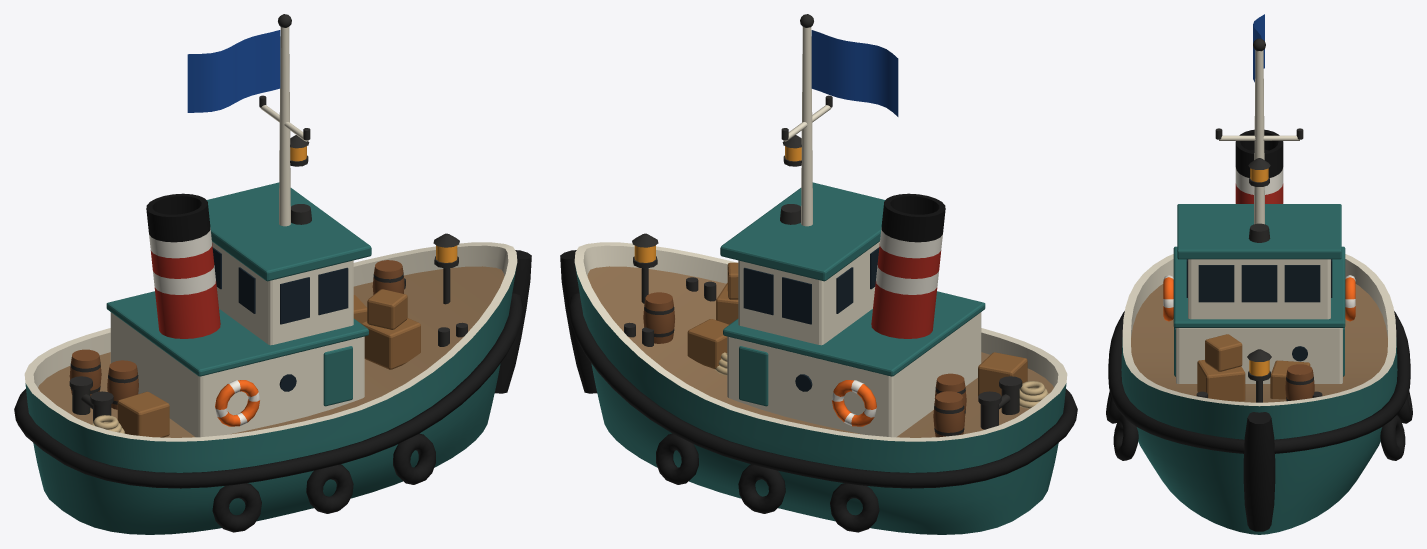
File: semi-realista.glb
3 renders of one model, left to right at view 1: azimuth 30°, elevation 25°; view 2: azimuth 150°, elevation 25°; view 3: azimuth 270°, elevation 25°, orthographic. The views are drawn at different scales.
Visible parts, largest first — view 1: hull, house, house_trim, fenders, funnel, flag, windows, mast, crate_0, crate_3, bitts, lanterns (+6 smaller); view 2: hull, house, house_trim, fenders, funnel, flag, windows, mast, bitts, crate_1, lanterns, crate_3 (+7 smaller); view 3: hull, house_trim, fenders, house, windows, funnel, mast, crate_0, lanterns, crate_2, barrel_2, life_rings (+3 smaller).
Boxes of the visible parts, x1,y1,x2,y2 form: hull: (24, 242, 517, 534); house: (110, 241, 364, 437); house_trim: (106, 182, 371, 406); fenders: (14, 250, 531, 532); funnel: (146, 193, 220, 338); flag: (187, 30, 280, 112); windows: (212, 247, 348, 391); mast: (260, 27, 308, 226); crate_0: (361, 318, 420, 369); crate_3: (117, 391, 169, 437); bitts: (69, 278, 467, 422); lanterns: (290, 135, 459, 304); hull: (574, 242, 1067, 534); house: (727, 241, 981, 437); house_trim: (720, 182, 985, 406); fenders: (560, 250, 1077, 532); funnel: (871, 193, 945, 338); flag: (811, 30, 898, 116); windows: (743, 247, 879, 391); mast: (783, 27, 831, 226); bitts: (624, 277, 1022, 429); crate_1: (687, 319, 728, 368); lanterns: (632, 135, 801, 303); crate_3: (978, 352, 1027, 396); hull: (1121, 254, 1397, 534); house_trim: (1173, 204, 1345, 376); fenders: (1106, 311, 1412, 531); house: (1176, 259, 1342, 383); windows: (1186, 259, 1332, 361); funnel: (1235, 129, 1283, 203); mast: (1219, 50, 1299, 224); crate_0: (1197, 360, 1245, 401); lanterns: (1247, 158, 1271, 402); crate_2: (1205, 334, 1242, 371); barrel_2: (1285, 364, 1314, 401); life_rings: (1163, 275, 1355, 321).
Size of the model in its own units: 2.17 by 1.88 by 1.29.
